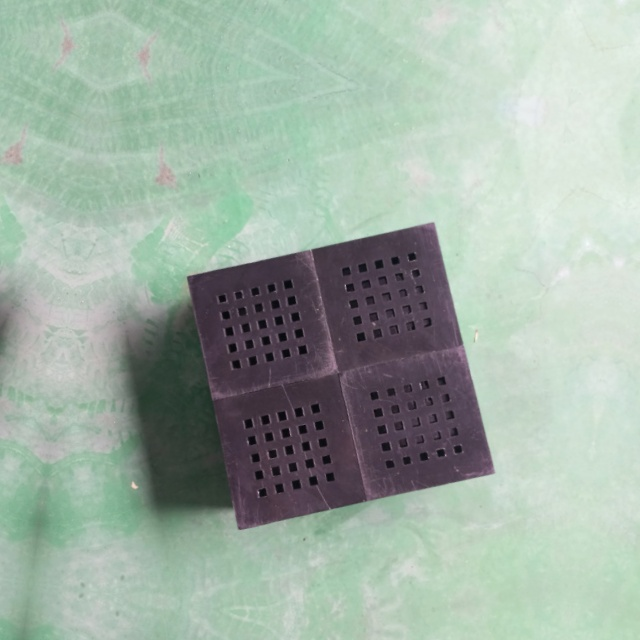pallet: (181, 214, 502, 540)
